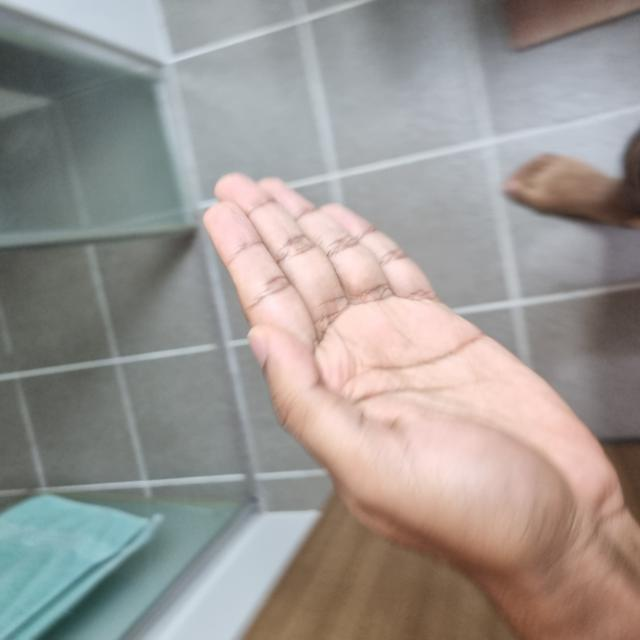Paper: (67, 209, 462, 609)
